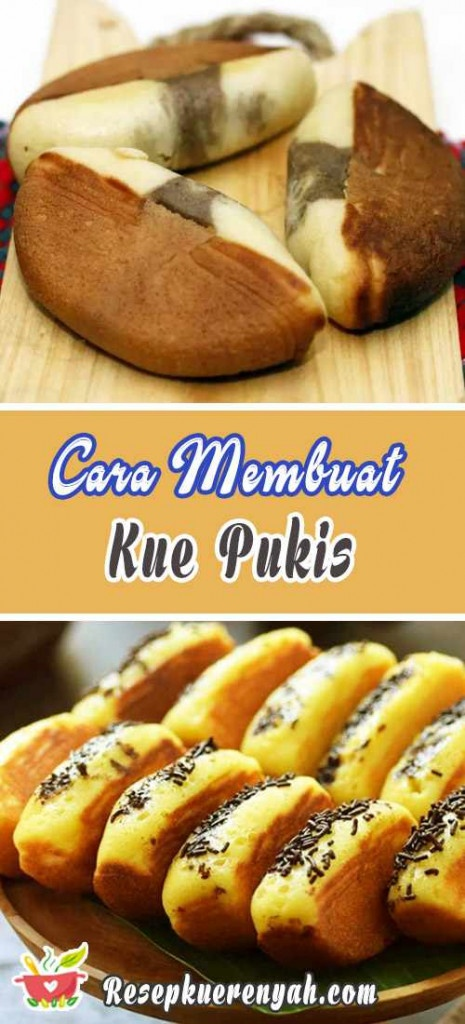pukis: (25, 152, 329, 396), (294, 56, 465, 350)
